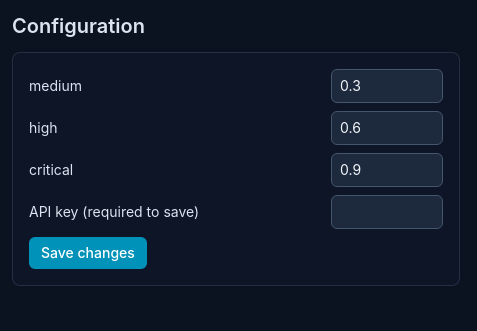
it: Config › displays backend validation errors for bad thresholds
expect the number field showing "0.6" is shown: met, box x1=331 y1=111 x2=443 y2=145
Click the button "Save changes" at (88, 253), box x1=29 y1=237 x2=147 y2=269
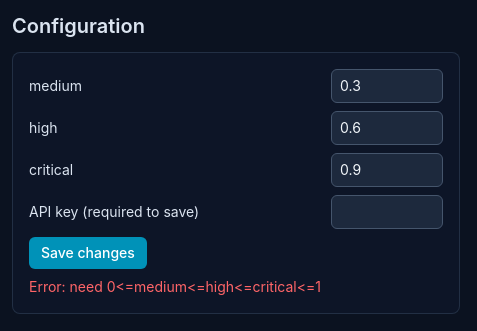
expect the text "Error: need 0<=medium<=high<=critical<=1" is shown: met, box x1=29 y1=278 x2=321 y2=295
